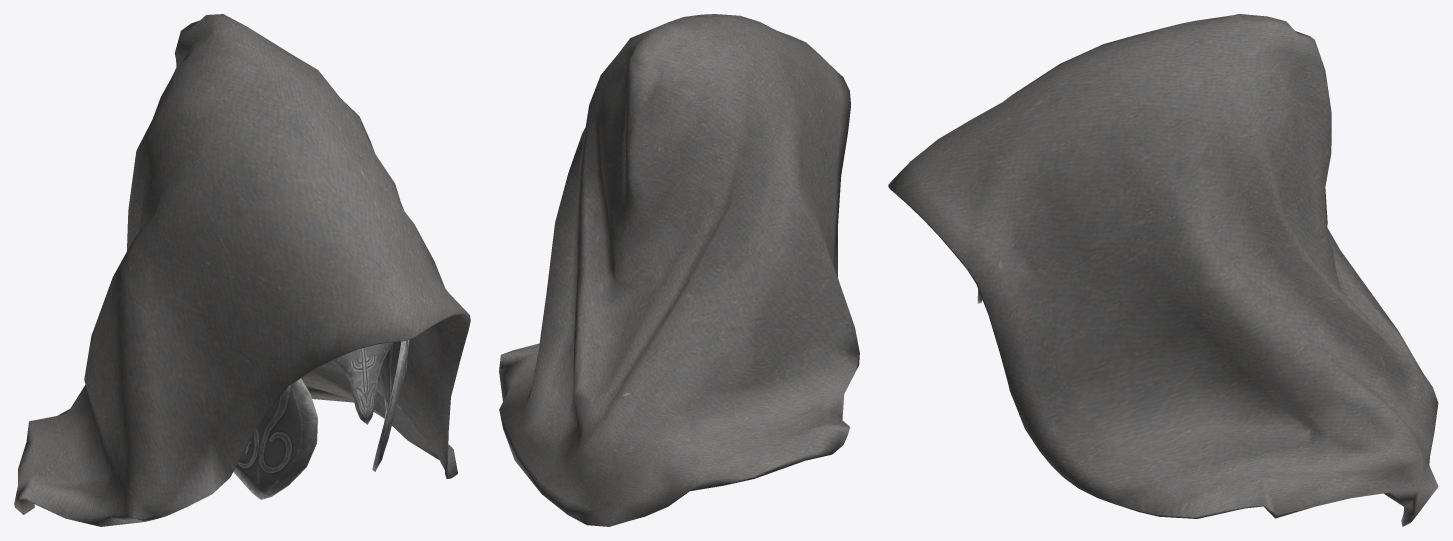
The model's file is rivendell_helmet_infantry_tier1_hood_silver.fbx.
3 renders of one model, left to right at view 1: azimuth 30°, elevation 25°; view 2: azimuth 150°, elevation 25°; view 3: azimuth 270°, elevation 25°, orthographic. The views are drawn at different scales.
Parts seen in each view (by area): view 1: rivendell_helmet_infantry_tier1_hood_silver.1, rivendell_helmet_infantry_tier1_hood_silver.0; view 2: rivendell_helmet_infantry_tier1_hood_silver.1; view 3: rivendell_helmet_infantry_tier1_hood_silver.1.
Boxes of the visible parts, box(x1,y1,x2,y2) form: rivendell_helmet_infantry_tier1_hood_silver.1: box(14, 14, 470, 526); rivendell_helmet_infantry_tier1_hood_silver.0: box(233, 339, 410, 499); rivendell_helmet_infantry_tier1_hood_silver.1: box(499, 14, 859, 526); rivendell_helmet_infantry_tier1_hood_silver.1: box(888, 14, 1438, 526).
Size of the model in its own units: 0.3872 by 0.4836 by 0.485.
2 materials, 2 textured.
